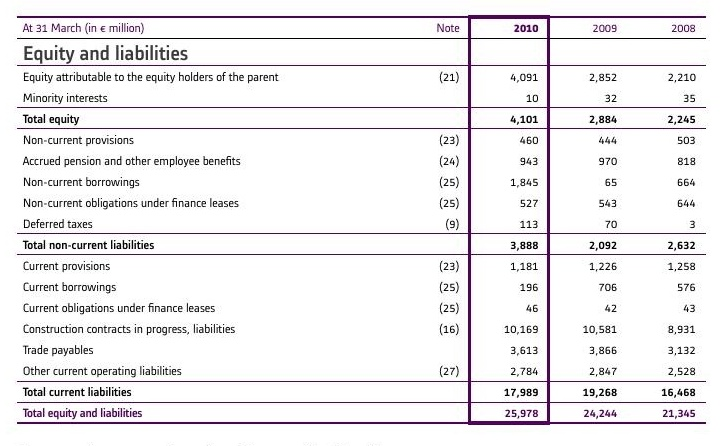table: (0, 0, 723, 446)
